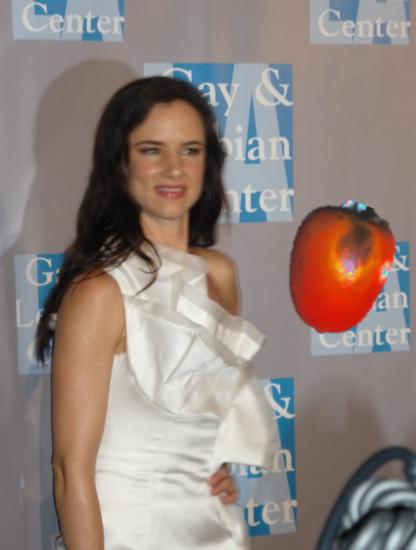Kaki: (269, 200, 405, 336)
